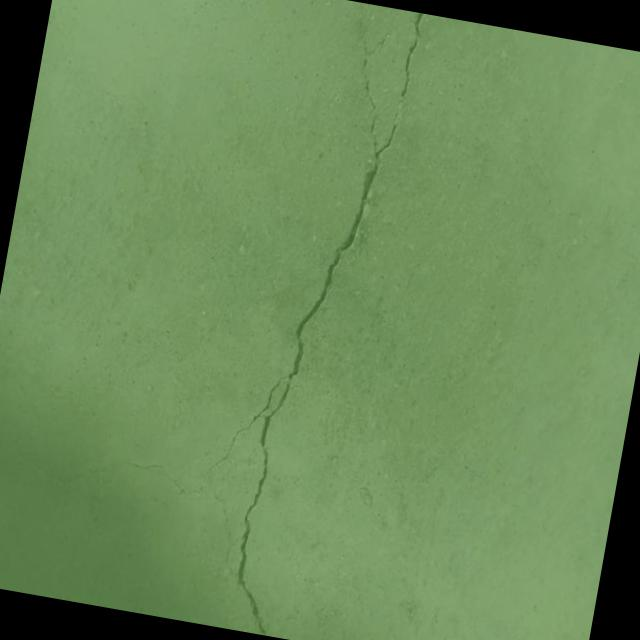crack: (91, 0, 424, 640), (48, 460, 106, 489)
